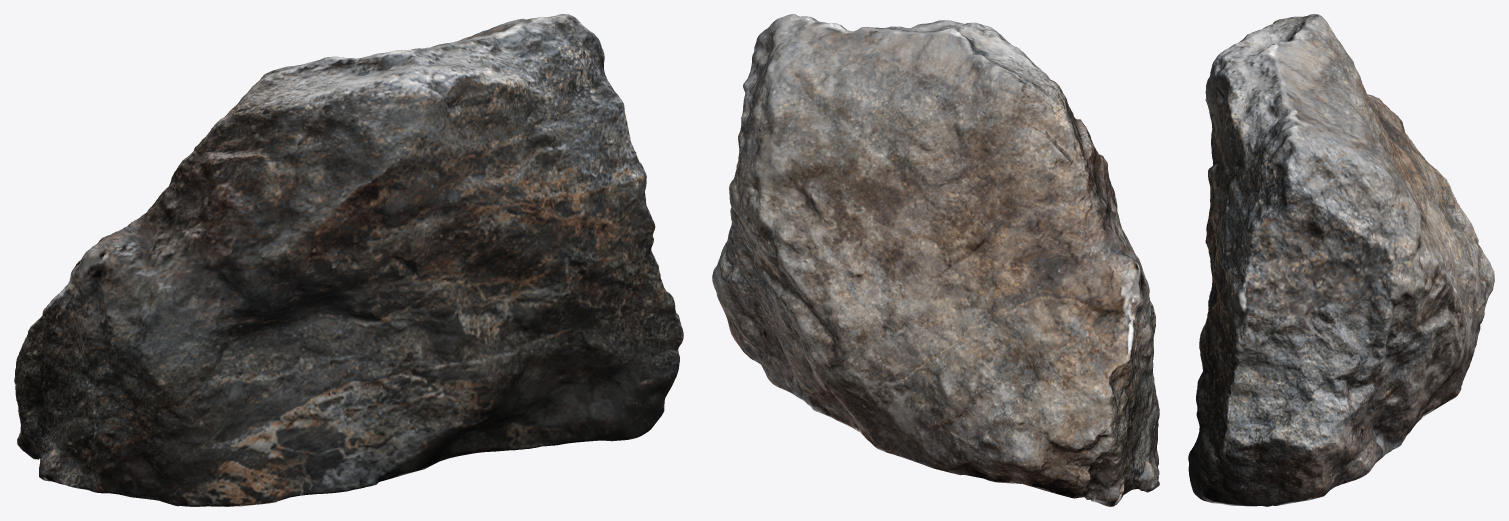
The model's file is sparse3.glb.
3 views of the same model, side by side, from view 1: azimuth 30°, elevation 25°; view 2: azimuth 150°, elevation 25°; view 3: azimuth 270°, elevation 25° (orthographic). The views are drawn at different scales.
Bounding box in the file's own units: 3.97 × 2.77 × 2.12.
Materials: 1 (1 with a texture image).
